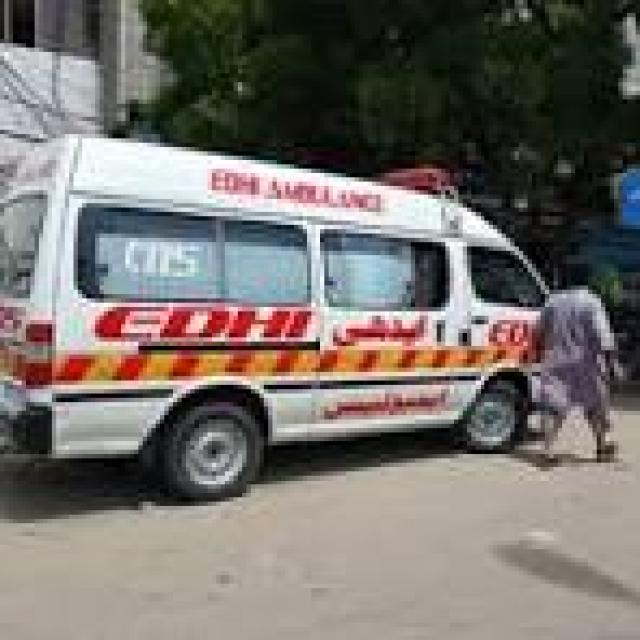ambulance: (0, 138, 554, 472)
